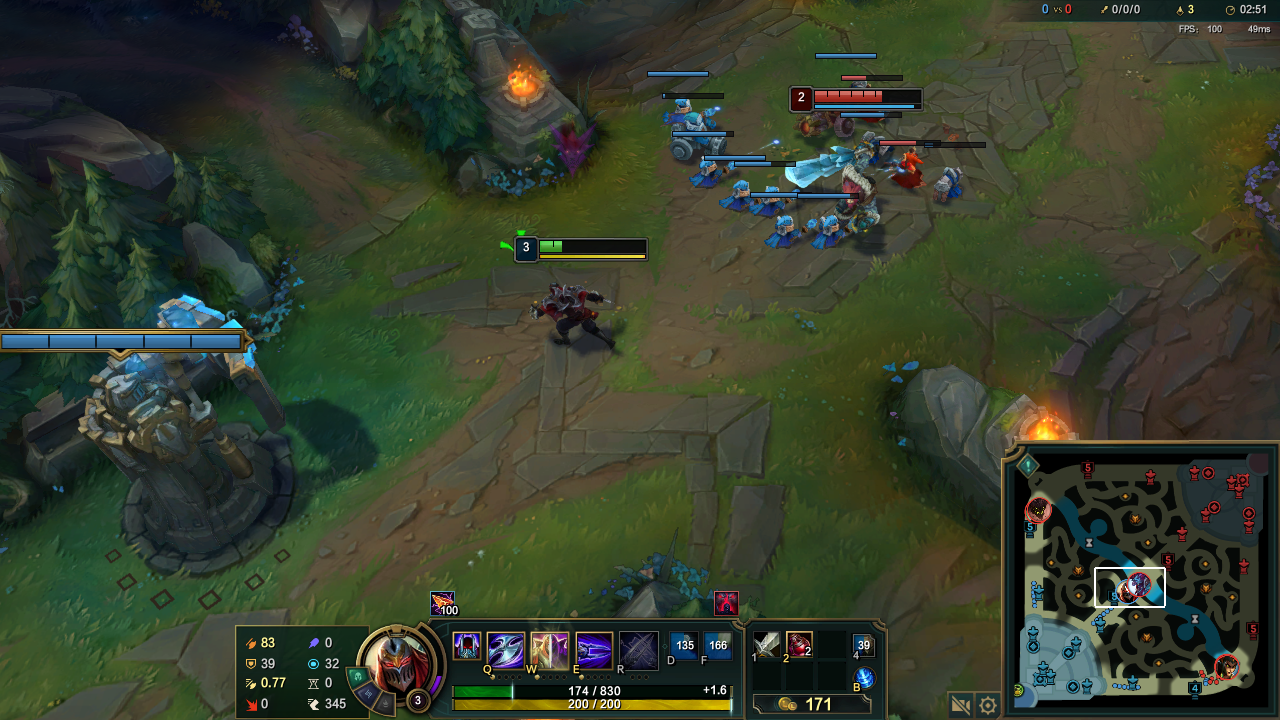DFYX: (814, 88, 922, 103)
WFXB: (656, 110, 734, 161)
Yita: (1187, 672, 1203, 699)
